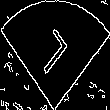L_SW: (34, 26, 76, 84)
